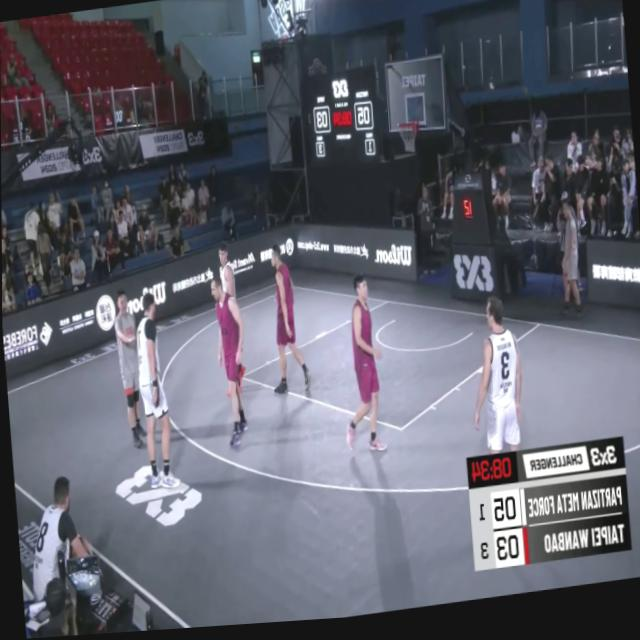hoop: (396, 120, 420, 165)
player: (332, 275, 387, 460), (463, 304, 525, 463), (133, 292, 180, 489), (206, 269, 248, 457), (265, 246, 308, 402), (210, 246, 243, 384)
